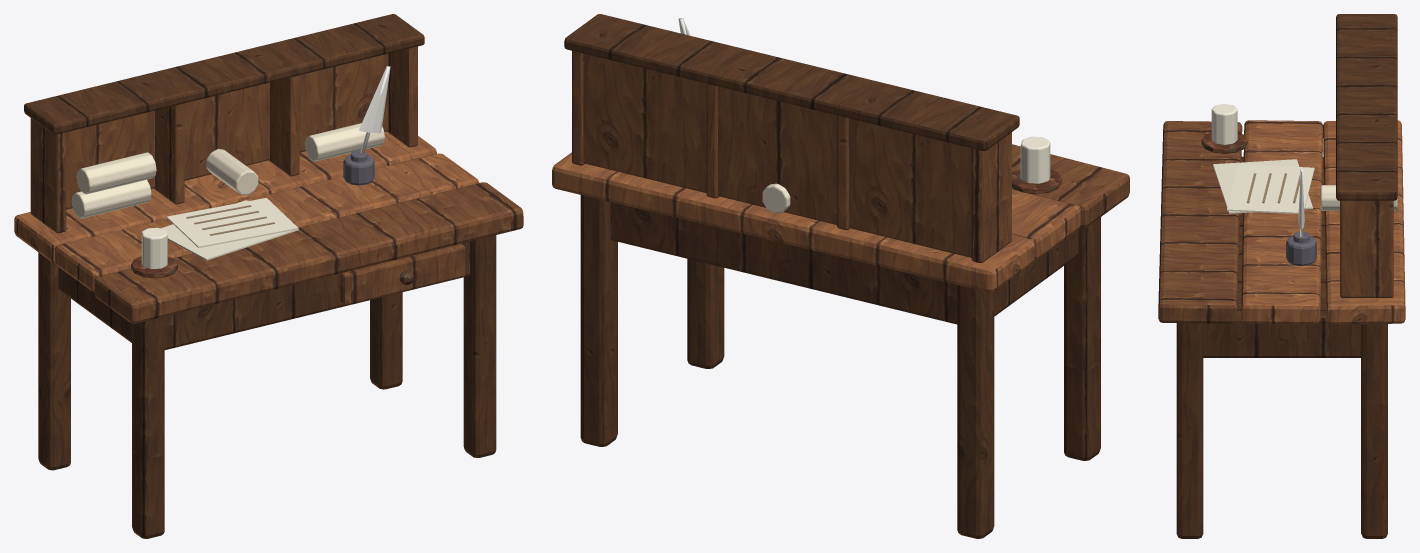
The model's file is writing_desk.glb.
3 views of the same model, side by side, from view 1: azimuth 30°, elevation 25°; view 2: azimuth 150°, elevation 25°; view 3: azimuth 270°, elevation 25° (orthographic). The views are drawn at different scales.
Visible parts, largest first — view 1: model; view 2: model; view 3: model.
Part boxes in pixels (x1,y1,x2,y2): model: (14, 14, 523, 538); model: (552, 14, 1129, 538); model: (1158, 14, 1405, 538).
Size of the model in its own units: 1.16 by 1.01 by 0.6433.
11 materials, 4 textured.
